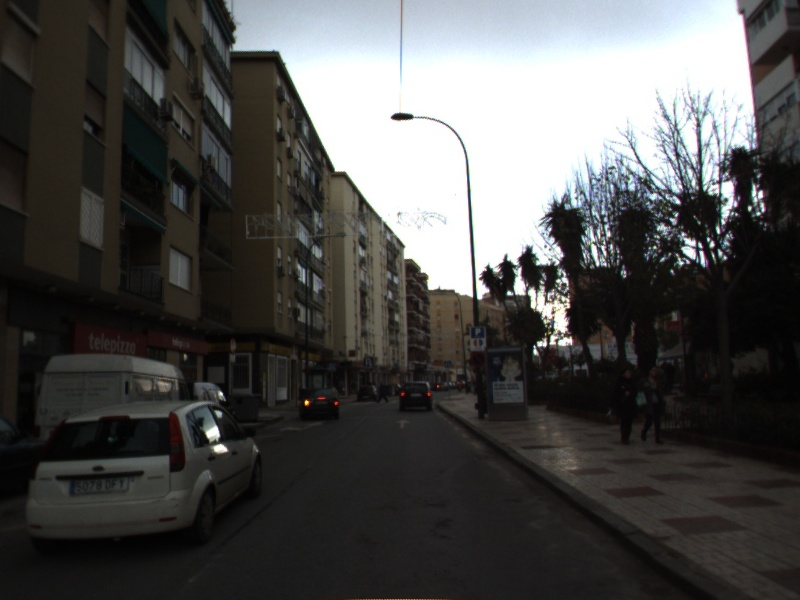STRAIGHT: (393, 417, 413, 431)
STRAIGHT_LEFT: (276, 418, 325, 434)
